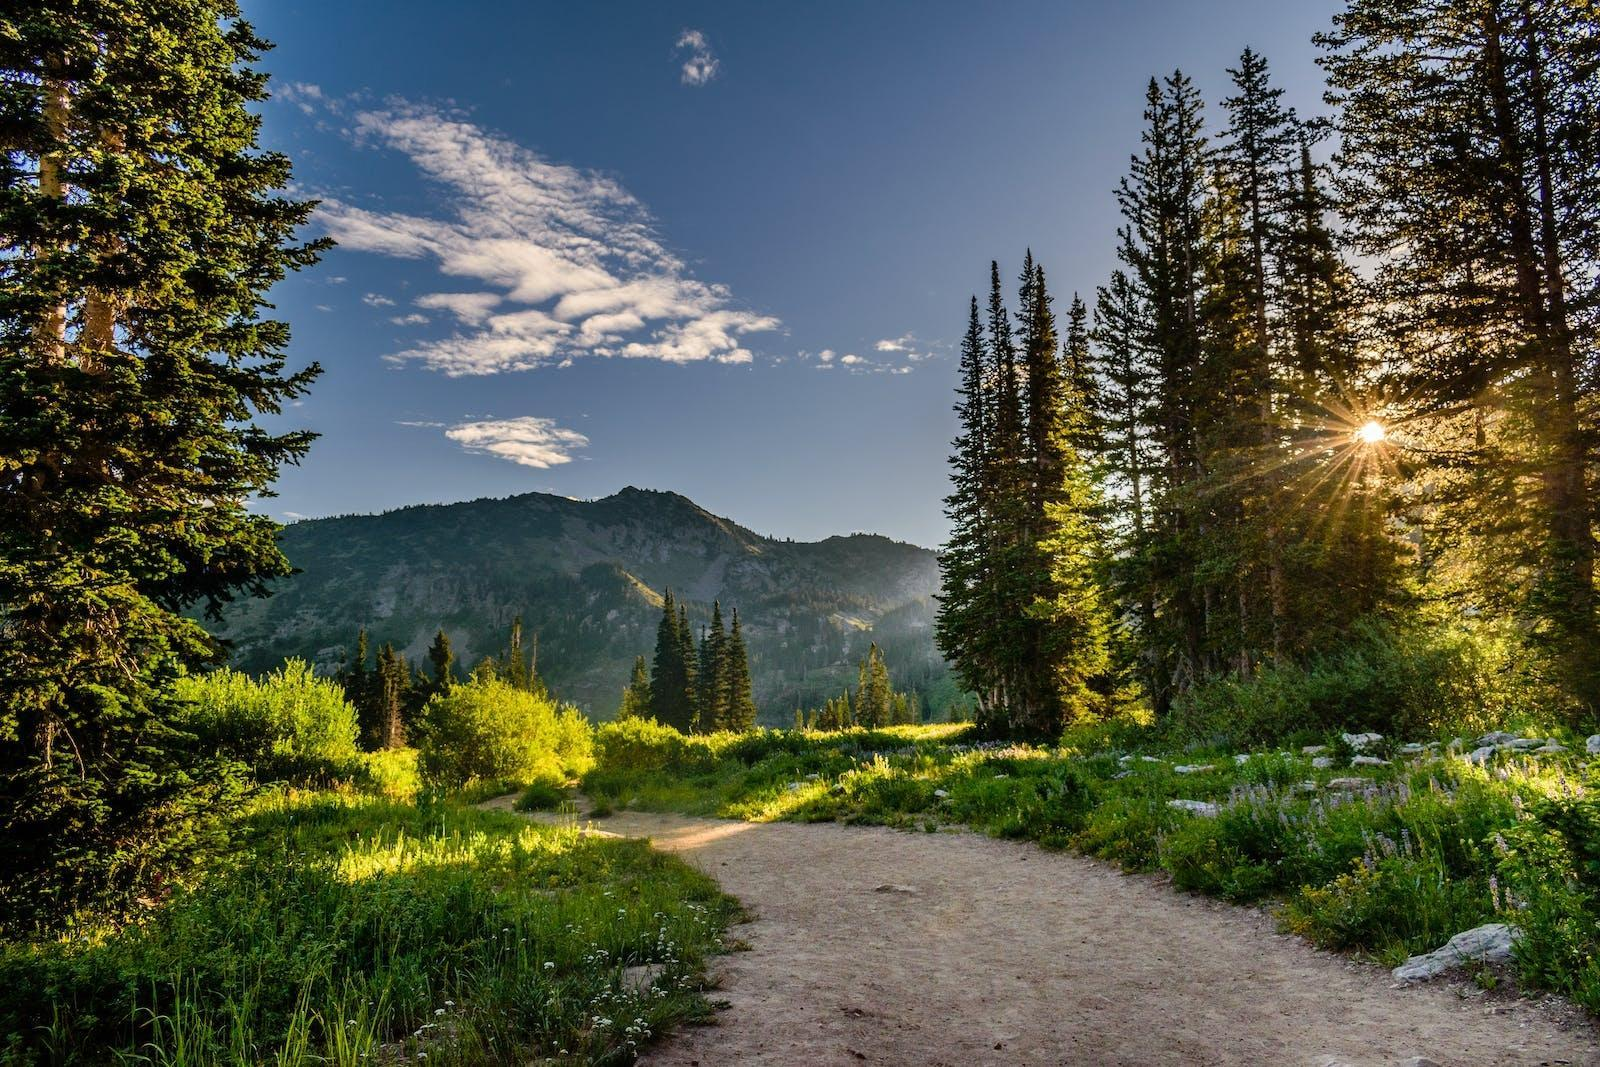field: (627, 736, 1600, 963), (19, 779, 694, 1059)
road: (601, 812, 1599, 1065)
